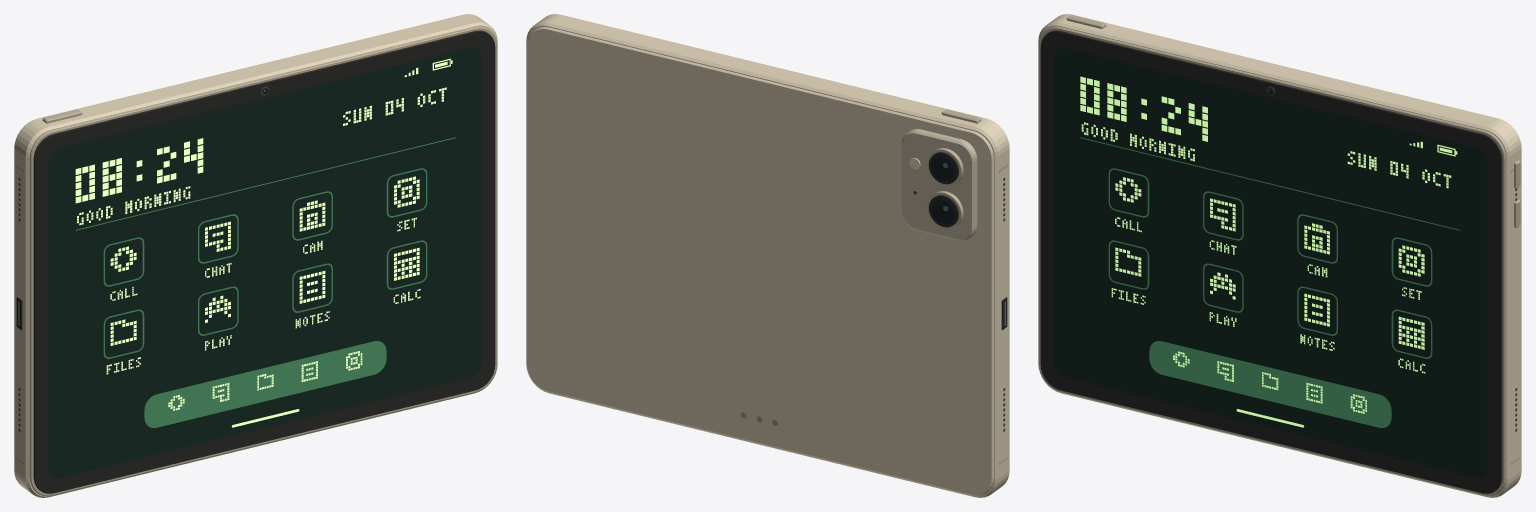
Rendered from retro-tablet.glb.
The picture shows the model from 3 angles, left to right: view 1: azimuth 30°, elevation 25°; view 2: azimuth 150°, elevation 25°; view 3: azimuth 330°, elevation 25°; orthographic projection.
Parts seen in each view (by area): view 1: Tablet green touchscreen, Tablet uniform display bezel, Tablet cream aluminum frame, Tablet pixel screen graphics, Tablet translucent app dock, Tablet front rim, Tablet app outlines; view 2: Tablet cream back panel, Tablet cream aluminum frame, Tablet rear camera island, Tablet rear camera metal ring, Tablet rear camera gasket, Tablet rear lens glass; view 3: Tablet green touchscreen, Tablet uniform display bezel, Tablet cream aluminum frame, Tablet pixel screen graphics, Tablet translucent app dock, Tablet front rim, Tablet app outlines.
Boxes of the visible parts, x1=… form: Tablet green touchscreen: x1=48, y1=47, x2=481, y2=477; Tablet uniform display bezel: x1=33, y1=30, x2=495, y2=493; Tablet cream aluminum frame: x1=14, y1=14, x2=497, y2=497; Tablet pixel screen graphics: x1=75, y1=58, x2=455, y2=410; Tablet translucent app dock: x1=144, y1=341, x2=386, y2=427; Tablet front rim: x1=29, y1=26, x2=496, y2=496; Tablet app outlines: x1=103, y1=168, x2=427, y2=358; Tablet cream back panel: x1=527, y1=27, x2=993, y2=495; Tablet cream aluminum frame: x1=526, y1=14, x2=1009, y2=497; Tablet rear camera island: x1=901, y1=128, x2=977, y2=240; Tablet rear camera metal ring: x1=927, y1=148, x2=963, y2=228; Tablet rear camera gasket: x1=928, y1=152, x2=958, y2=227; Tablet rear lens glass: x1=931, y1=156, x2=954, y2=224; Tablet green touchscreen: x1=1054, y1=47, x2=1487, y2=477; Tablet uniform display bezel: x1=1040, y1=30, x2=1502, y2=493; Tablet cream aluminum frame: x1=1038, y1=14, x2=1521, y2=497; Tablet pixel screen graphics: x1=1080, y1=76, x2=1460, y2=413; Tablet translucent app dock: x1=1149, y1=341, x2=1391, y2=427; Tablet front rim: x1=1039, y1=26, x2=1506, y2=496; Tablet app outlines: x1=1108, y1=168, x2=1432, y2=358.
Size of the model in its own units: 3.94 by 2.95 by 0.375.
